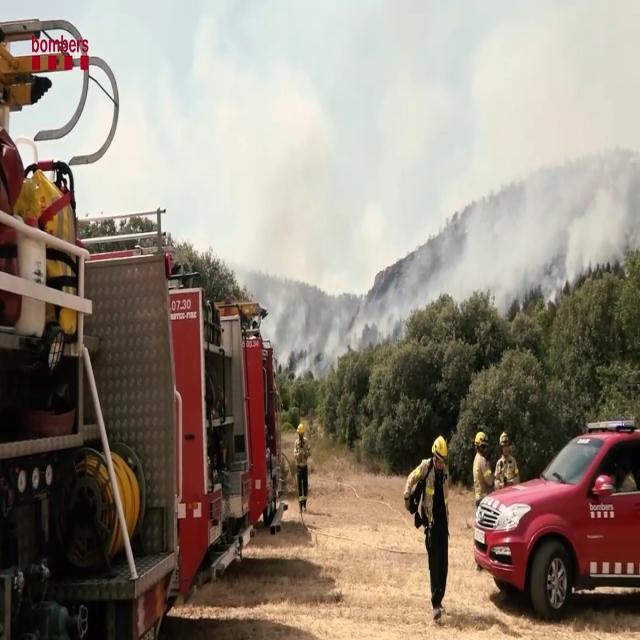Smoke: (434, 35, 640, 315), (266, 232, 400, 384)
